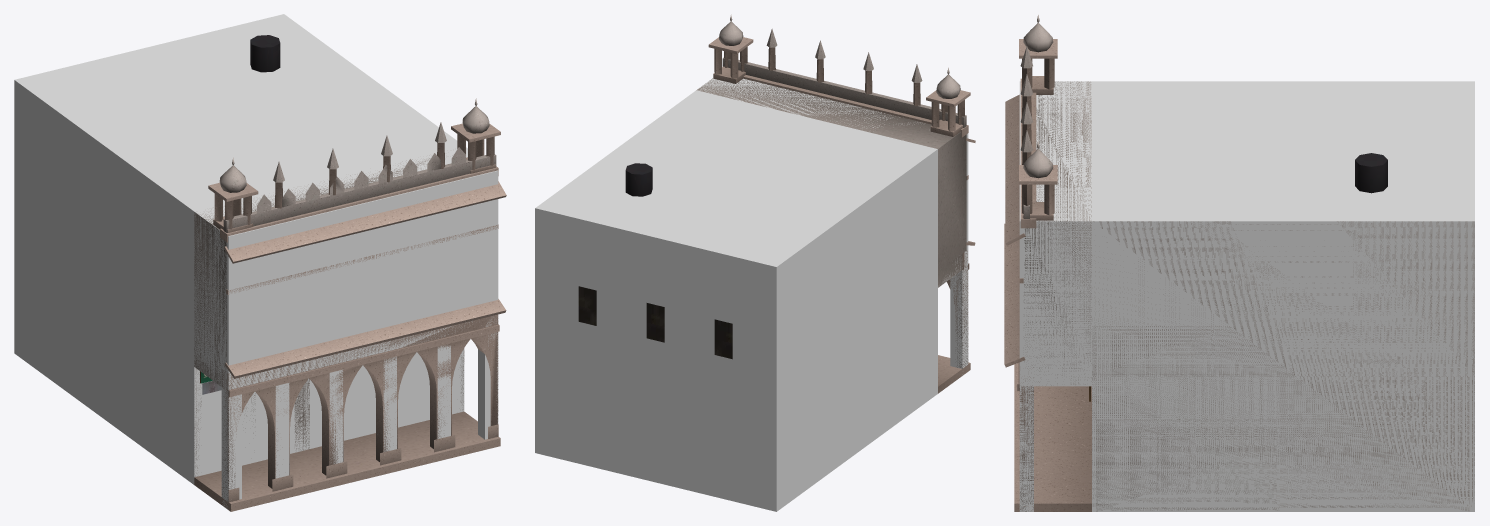
Rendered from pathergatti_arcade.glb.
3 renders of one model, left to right at view 1: azimuth 30°, elevation 25°; view 2: azimuth 150°, elevation 25°; view 3: azimuth 270°, elevation 25°, orthographic. The views are drawn at different scales.
Parts seen in each view (by area): view 1: COL_pathergatti, pathergatti_arcade_body; view 2: COL_pathergatti, pathergatti_arcade_body; view 3: COL_pathergatti, pathergatti_arcade_body.
Boxes of the visible parts, x1,y1,x2,y2 form: COL_pathergatti: (14,14,498,509); pathergatti_arcade_body: (194,35,506,511); COL_pathergatti: (535,78,968,511); pathergatti_arcade_body: (578,14,975,393); COL_pathergatti: (1019,81,1474,511); pathergatti_arcade_body: (1004,15,1474,511).
Size of the model in its own units: 32.55 by 38.92 by 45.52.
Materials: 19 (19 with a texture image).
